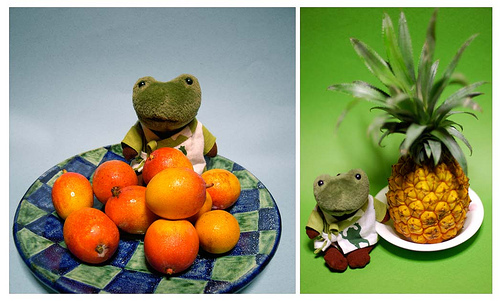pineapple: (327, 7, 486, 245)
